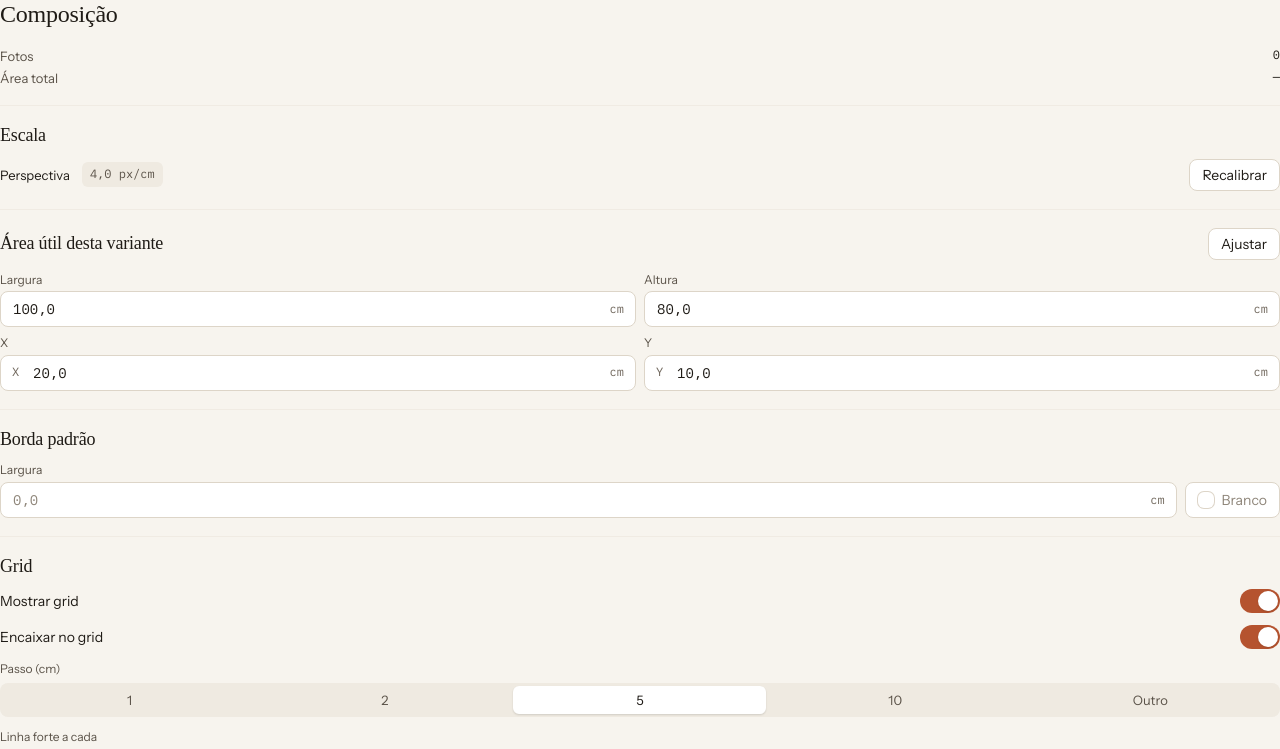
Scenario: Área útil desta variante (A-13, A-14) › texto que não é número não aplica
Replace the text in the field labelled "Altura" with "abc" at (962, 309), box [644,291,1279,327]
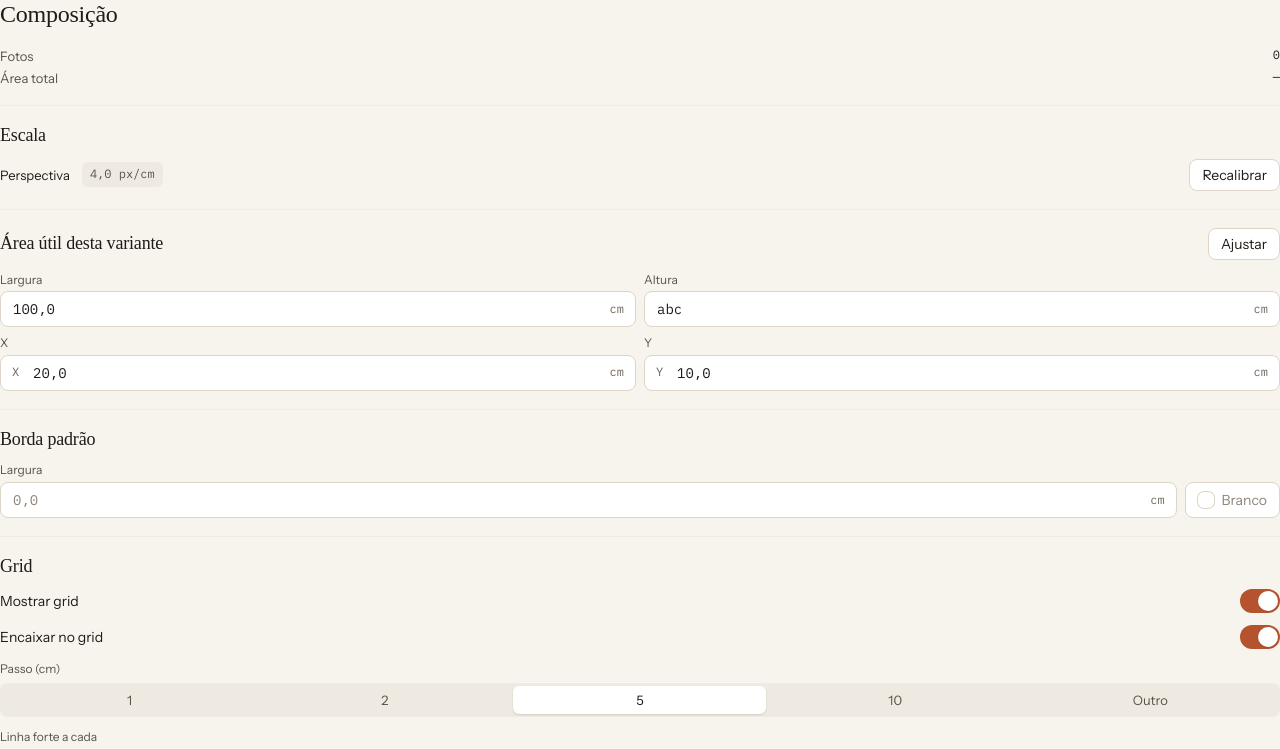
Press Enter in the field labelled "Altura", box [644,291,1279,327]
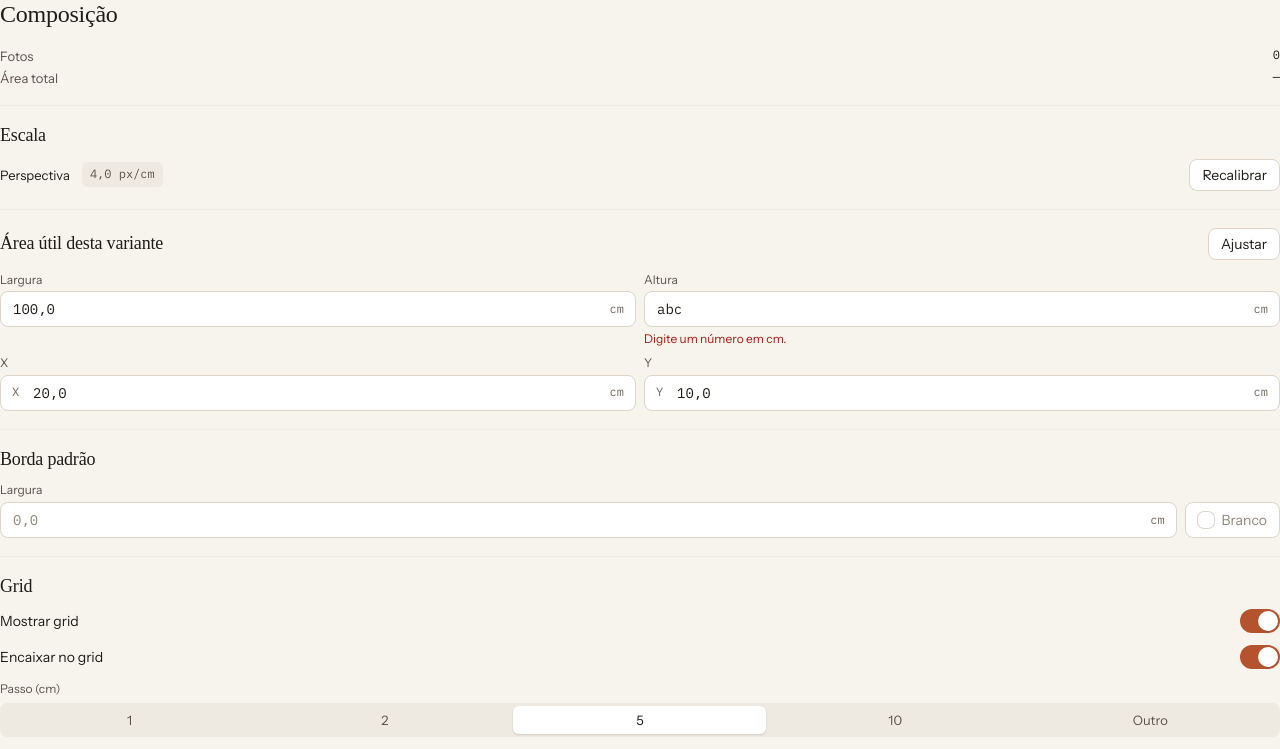
Expected: the text "Digite um número em cm." is shown, [644,331,786,346]
